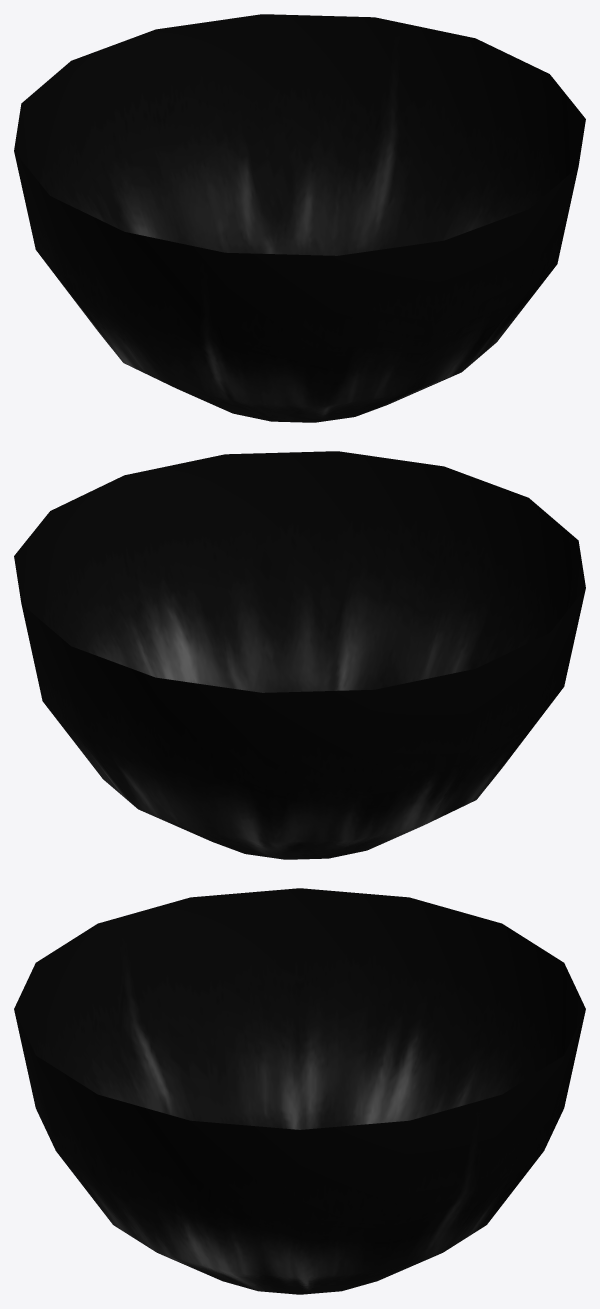
File: FxMeshes_68.FBX
3 views of the same model, one above another, from view 1: azimuth 30°, elevation 25°; view 2: azimuth 150°, elevation 25°; view 3: azimuth 270°, elevation 25° (orthographic).
Parts seen in each view (by area): view 1: Sphere001; view 2: Sphere001; view 3: Sphere001.
Boxes of the visible parts, x1=… form: Sphere001: x1=14, y1=14, x2=585, y2=422; Sphere001: x1=14, y1=451, x2=585, y2=859; Sphere001: x1=14, y1=888, x2=585, y2=1294.
Bounding box in the file's own units: 200 × 100 × 200.
